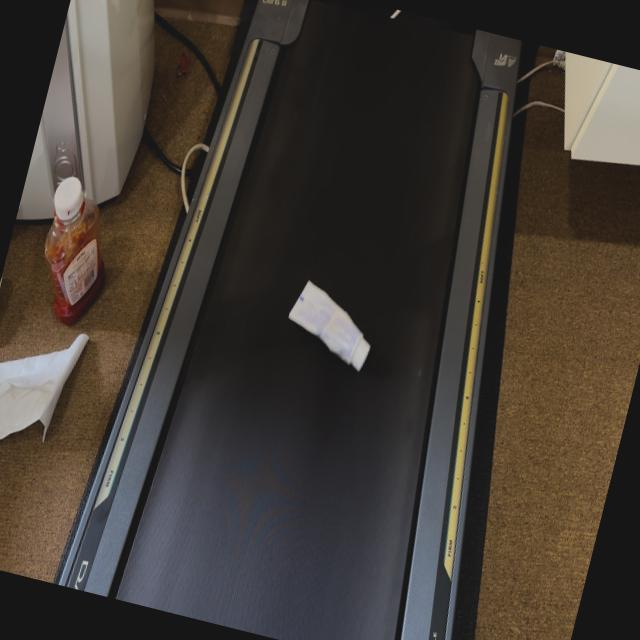Trash: (274, 267, 392, 402)
